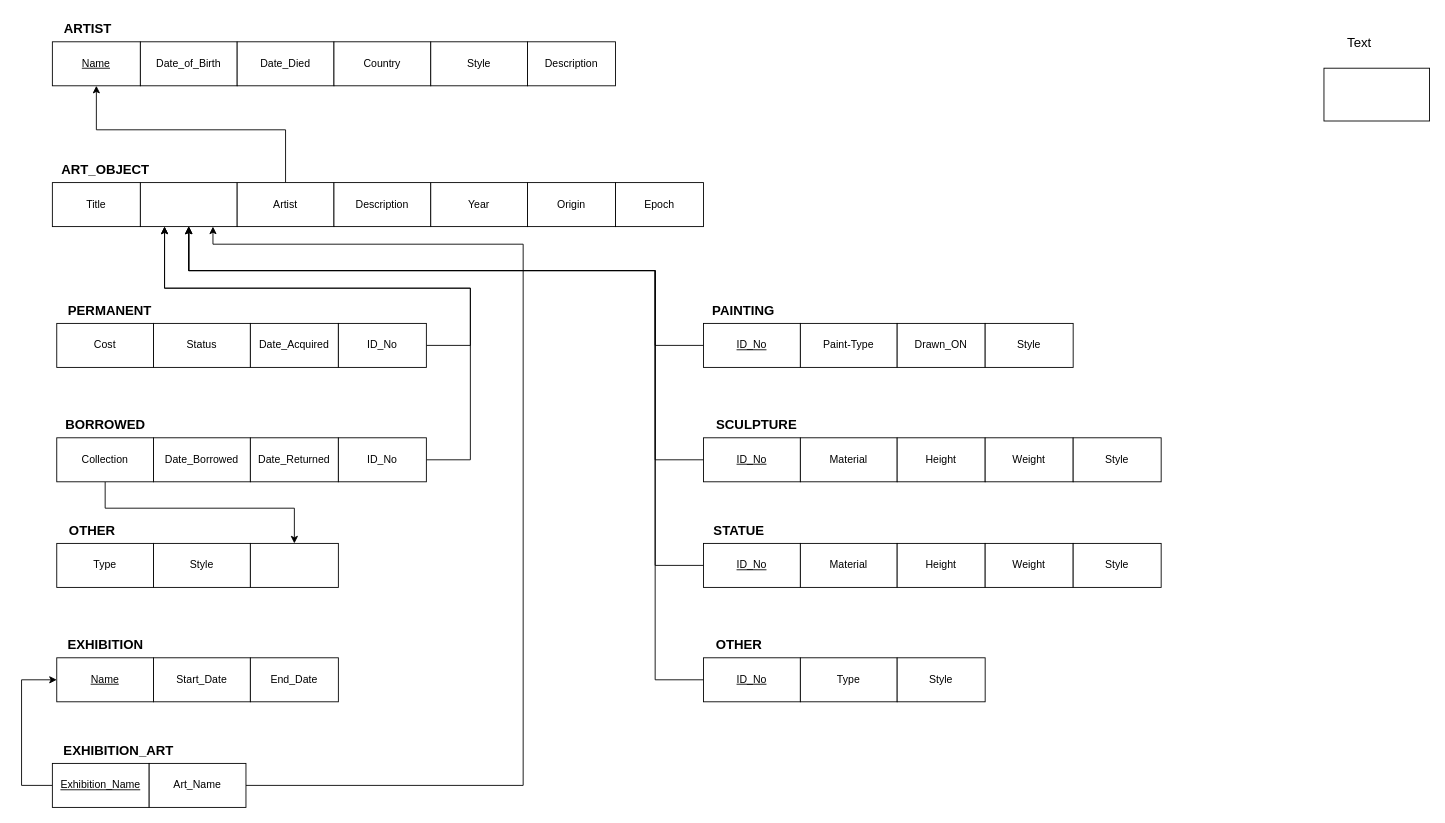
This 1445x823 diagram has some shape labels left out. The shapes that lost their labels are listed below. From the top down, each one's centre as x and y in pixels, then its label:
At (x=1376, y=94): "JNIIHI".
At (x=188, y=204): "ID_Number".
At (x=293, y=565): "Collection_Name".
